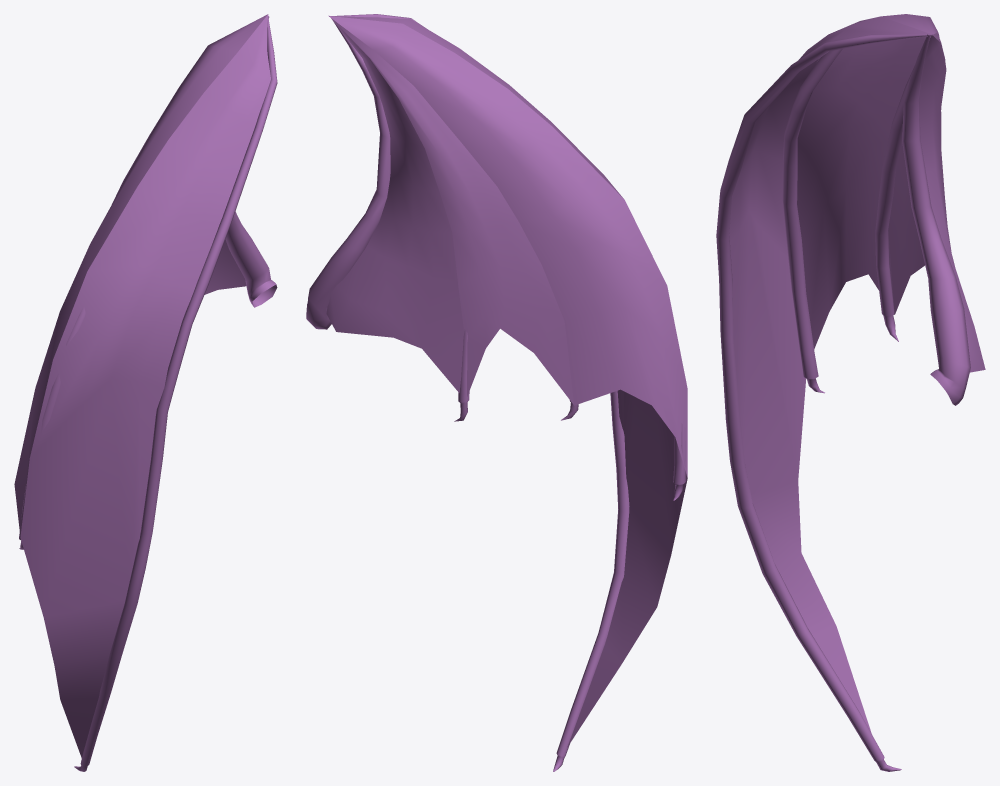
Rendered from WingTest.fbx.
3 views of the same model, side by side, from view 1: azimuth 30°, elevation 25°; view 2: azimuth 150°, elevation 25°; view 3: azimuth 270°, elevation 25° (orthographic). The views are drawn at different scales.
Parts seen in each view (by area): view 1: pPlane12, pPlane16, pCylinder13, pPlane11, pPlane15, polySurface16, pPlane9, pCylinder12; view 2: pPlane11, pPlane9, pPlane10, pPlane12, pPlane15, pPlane13, pPlane14, polySurface16, pCylinder13, pPlane16, pCylinder12; view 3: pPlane12, pPlane11, pCylinder13, pPlane16, polySurface16, pPlane15, pCylinder12, pPlane9, pPlane10, pCylinder11, pPlane13, pPlane14.
Boxes of the visible parts, x1=… form: pPlane12: x1=20, y1=14, x2=270, y2=758; pPlane16: x1=21, y1=15, x2=269, y2=755; pCylinder13: x1=74, y1=18, x2=277, y2=771; pPlane11: x1=14, y1=14, x2=267, y2=536; pPlane15: x1=15, y1=18, x2=264, y2=534; polySurface16: x1=225, y1=16, x2=277, y2=307; pPlane9: x1=204, y1=239, x2=246, y2=294; pCylinder12: x1=19, y1=306, x2=85, y2=549; pPlane11: x1=329, y1=16, x2=687, y2=477; pPlane9: x1=326, y1=18, x2=464, y2=392; pPlane10: x1=332, y1=19, x2=574, y2=405; pPlane12: x1=332, y1=16, x2=687, y2=747; pPlane15: x1=334, y1=17, x2=687, y2=470; pPlane13: x1=327, y1=23, x2=463, y2=390; pPlane14: x1=335, y1=22, x2=573, y2=403; polySurface16: x1=306, y1=21, x2=390, y2=329; pCylinder13: x1=329, y1=14, x2=629, y2=771; pPlane16: x1=339, y1=16, x2=686, y2=744; pCylinder12: x1=673, y1=423, x2=686, y2=500; pPlane12: x1=729, y1=16, x2=931, y2=733; pPlane11: x1=797, y1=14, x2=937, y2=349; pCylinder13: x1=716, y1=34, x2=931, y2=771; pPlane16: x1=730, y1=17, x2=927, y2=724; polySurface16: x1=902, y1=34, x2=970, y2=405; pPlane15: x1=797, y1=14, x2=935, y2=347; pCylinder12: x1=782, y1=35, x2=932, y2=393; pPlane9: x1=919, y1=35, x2=985, y2=372; pPlane10: x1=888, y1=32, x2=945, y2=314; pCylinder11: x1=875, y1=35, x2=931, y2=341; pPlane13: x1=919, y1=40, x2=985, y2=370; pPlane14: x1=889, y1=33, x2=944, y2=310.
Bounding box in the file's own units: 13.5 × 28.57 × 8.1.
